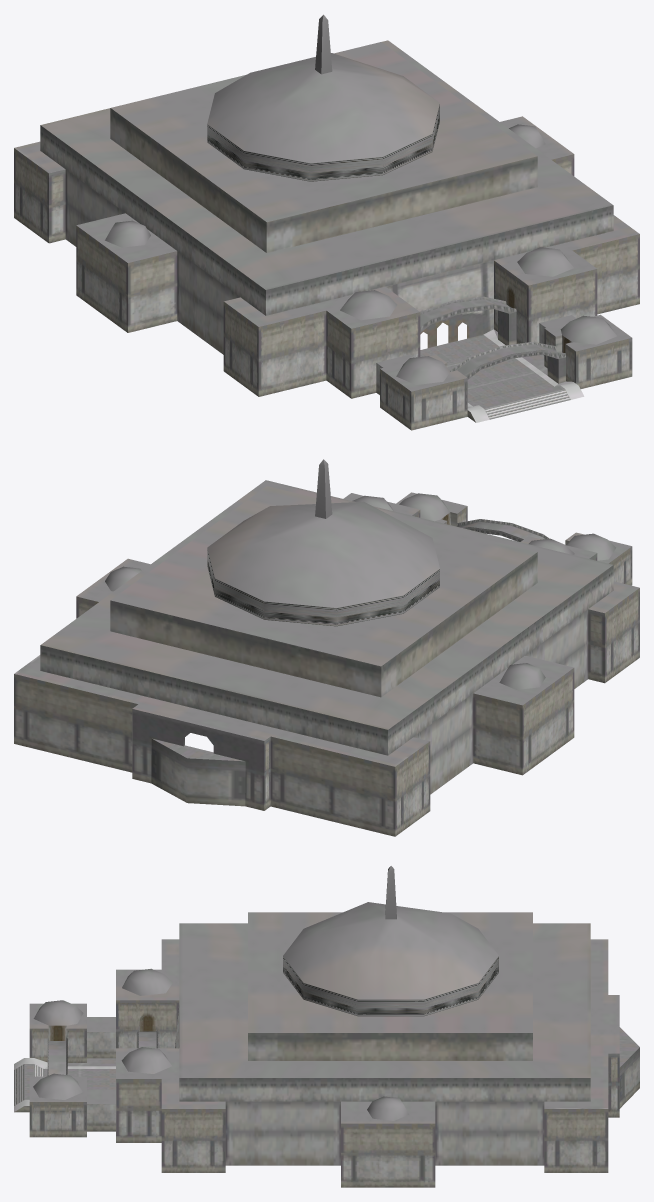
The model's file is mun_corl_capitol_s01_r0_mesh_l3.fbx.
3 renders of one model, top to bottom at view 1: azimuth 30°, elevation 25°; view 2: azimuth 150°, elevation 25°; view 3: azimuth 270°, elevation 25°, orthographic. The views are drawn at different scales.
Parts seen in each view (by area): view 1: mesh_node; view 2: mesh_node; view 3: mesh_node.
Boxes of the visible parts, bbox=[...] form: mesh_node: bbox=[14, 14, 639, 430]; mesh_node: bbox=[14, 459, 639, 836]; mesh_node: bbox=[14, 866, 639, 1187].
Bounding box in the file's own units: 82.46 × 43.08 × 110.
1 material, 1 textured.
